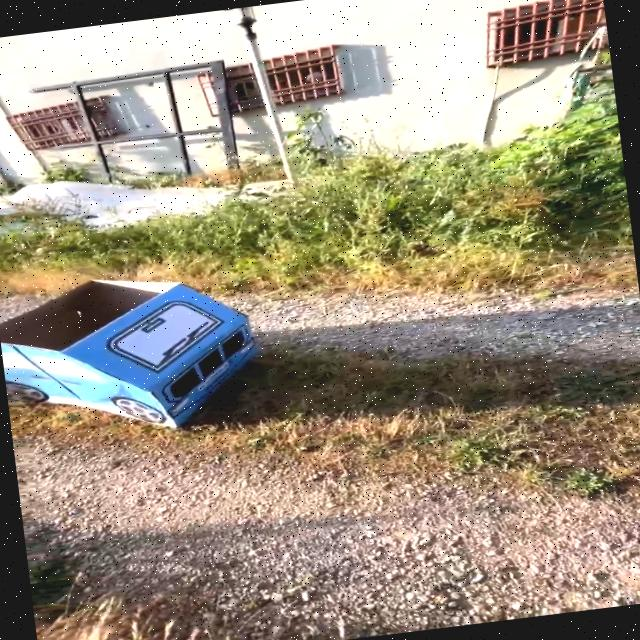blue_car: (0, 203, 336, 470)
